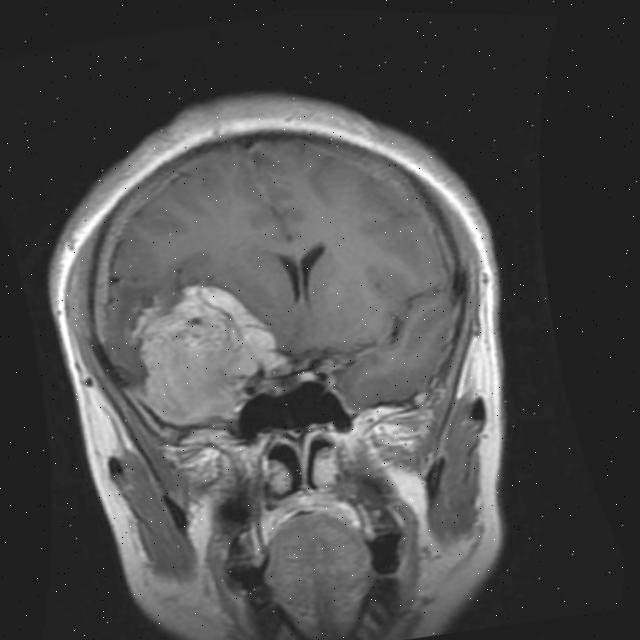Meningioma: (123, 265, 291, 434)
